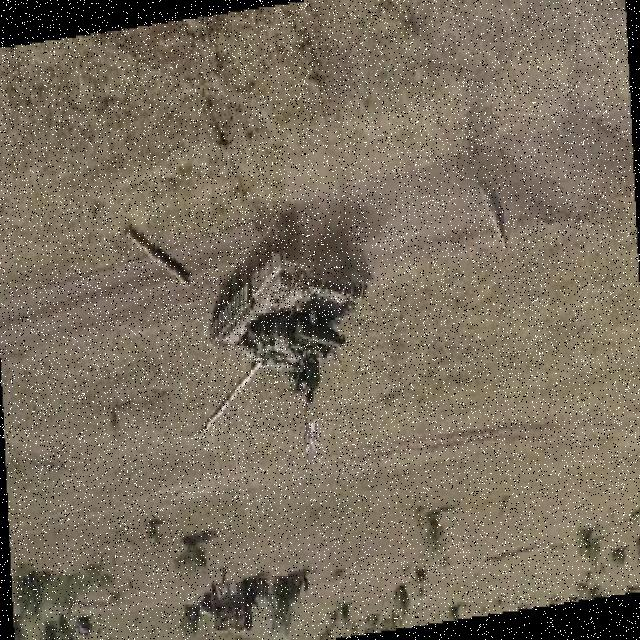MIL_MBT: (197, 219, 373, 449)
